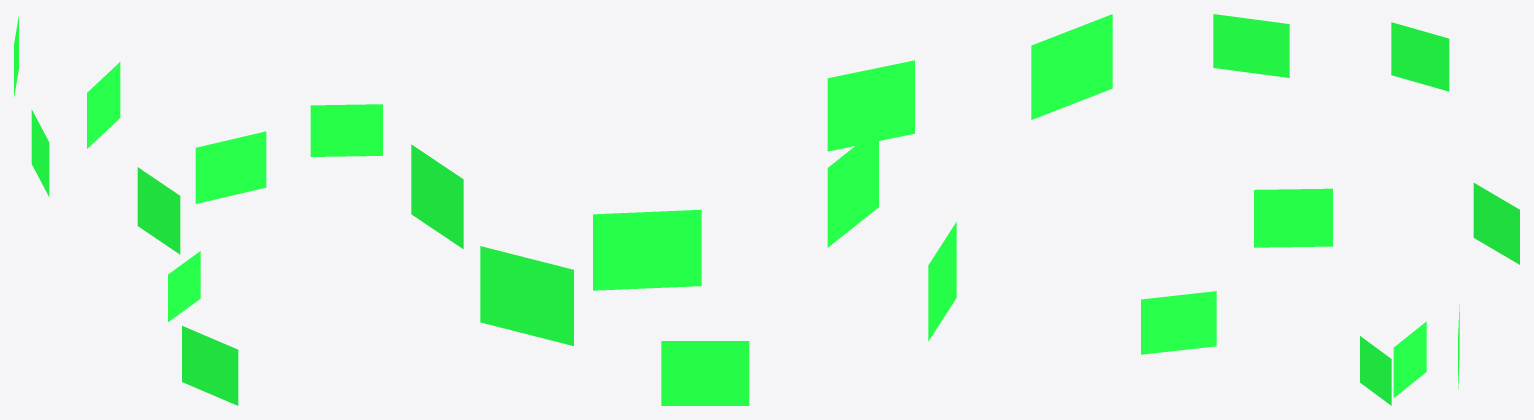
The model's file is screens.glb.
3 views of the same model, side by side, from view 1: azimuth 30°, elevation 25°; view 2: azimuth 150°, elevation 25°; view 3: azimuth 270°, elevation 25° (orthographic). The views are drawn at different scales.
Parts seen in each view (by area): view 1: screen7, screen8, screen5, screen3, screen4, screen6, screen1; view 2: screen4, screen7, screen2, screen1, screen6, screen3, screen8, screen5; view 3: screen3, screen5, screen1, screen2, screen4, screen8, screen6.
Boxes of the visible parts, box(x1,y1,x2,y2) form: screen7: box(195, 131, 266, 203); screen8: box(310, 104, 382, 156); screen5: box(182, 326, 238, 405); screen3: box(137, 167, 180, 254); screen4: box(87, 62, 120, 148); screen6: box(168, 251, 200, 321); screen1: box(31, 109, 49, 196); screen4: box(593, 209, 701, 290); screen7: box(480, 246, 573, 345); screen2: box(827, 60, 914, 151); screen1: box(1031, 14, 1112, 119); screen6: box(661, 341, 749, 405); screen3: box(827, 141, 878, 247); screen8: box(411, 144, 463, 248); screen5: box(928, 222, 956, 341); screen3: box(1254, 188, 1332, 247); screen5: box(1141, 291, 1216, 354); screen1: box(1213, 14, 1289, 77); screen2: box(1391, 22, 1449, 91); screen4: box(1473, 183, 1519, 264); screen8: box(1393, 321, 1426, 397); screen6: box(1360, 336, 1391, 405).
Bounding box in the file's own units: 3.79 × 2.56 × 2.98.
